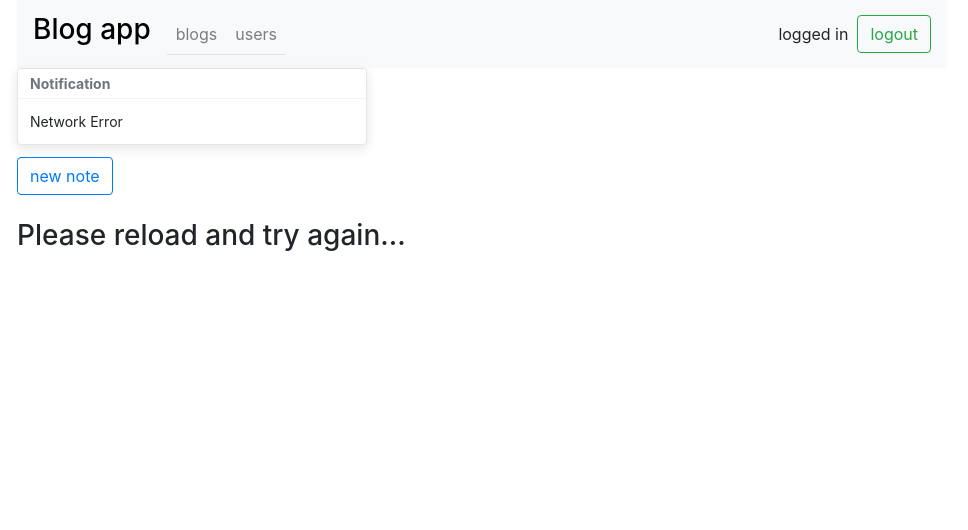
it: Blog app › When logged in › A blog can be created
This screenshot has width=968, height=530.
Click the button "new note" at (65, 176), box [17,157,113,195]
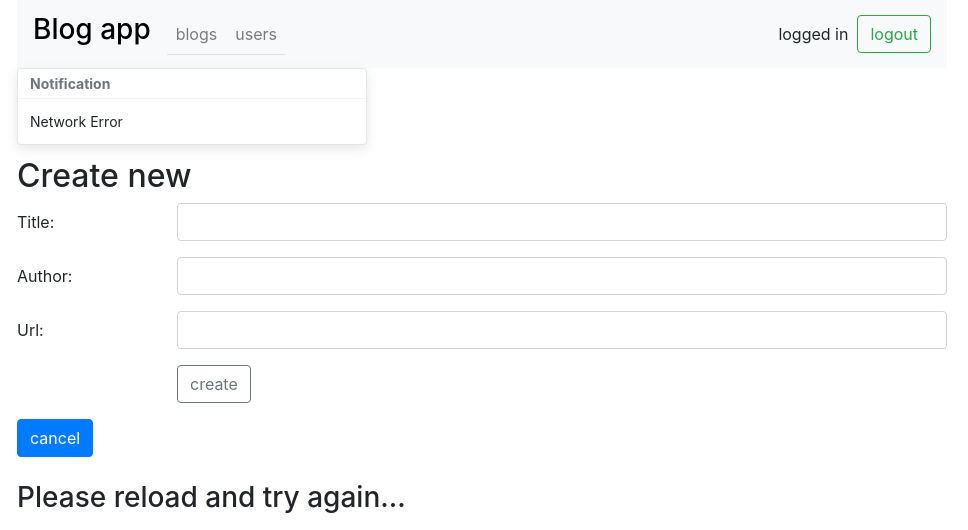
Type "What happened to Fullstack testing?" into the field with id "title" at (562, 222), box [177,203,947,241]
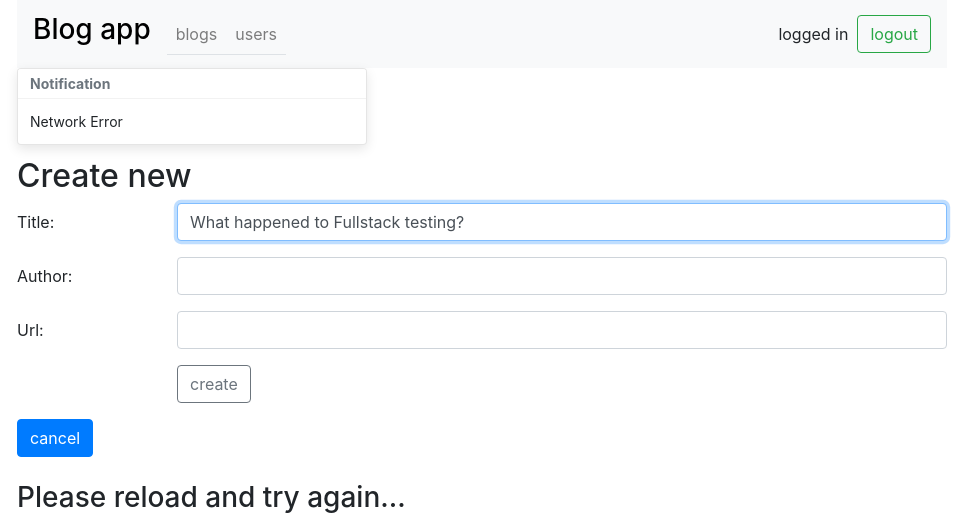
Type "Neil Somebody" into the field with id "author" at (562, 276), box [177,257,947,295]
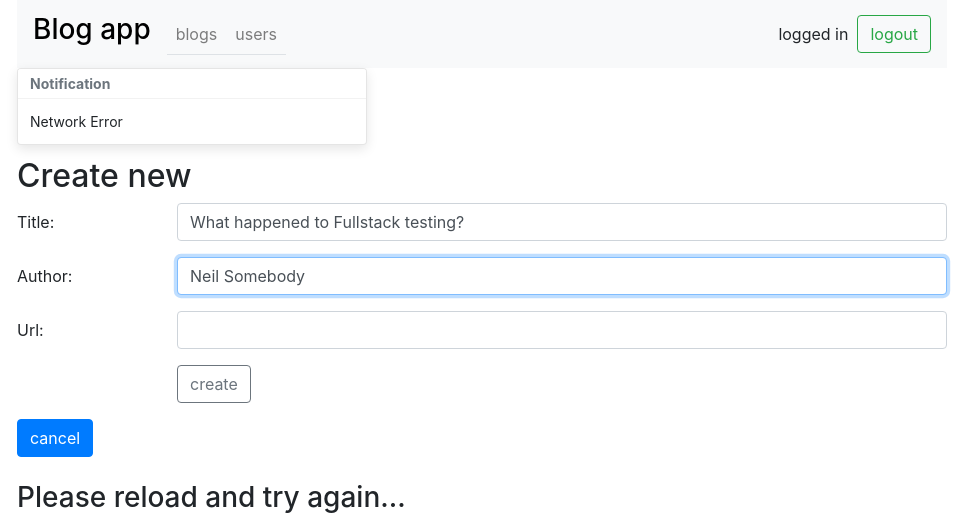
Type "https://www.goodreads.com/what-happened-to-anything" into the field with id "url" at (562, 330), box [177,311,947,349]
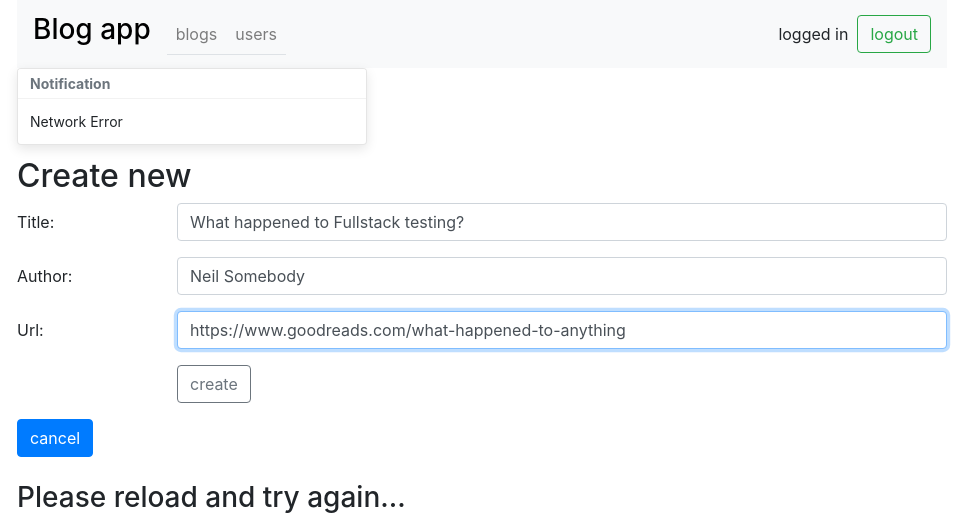
Click the button with id "createButton" at (214, 384), box [177,365,251,403]
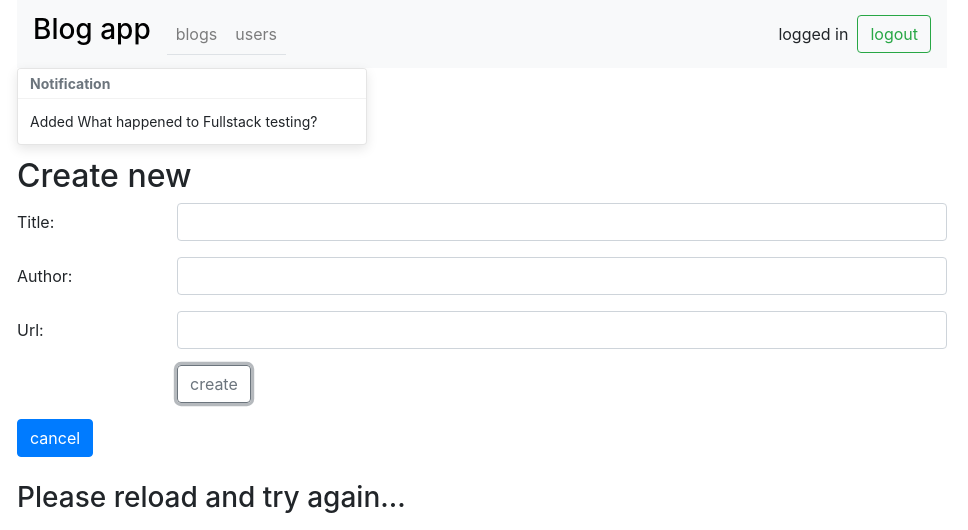
Expected: the text with class "error" reads "Added What happened to Fullstack testing?", [30,113,317,130]
